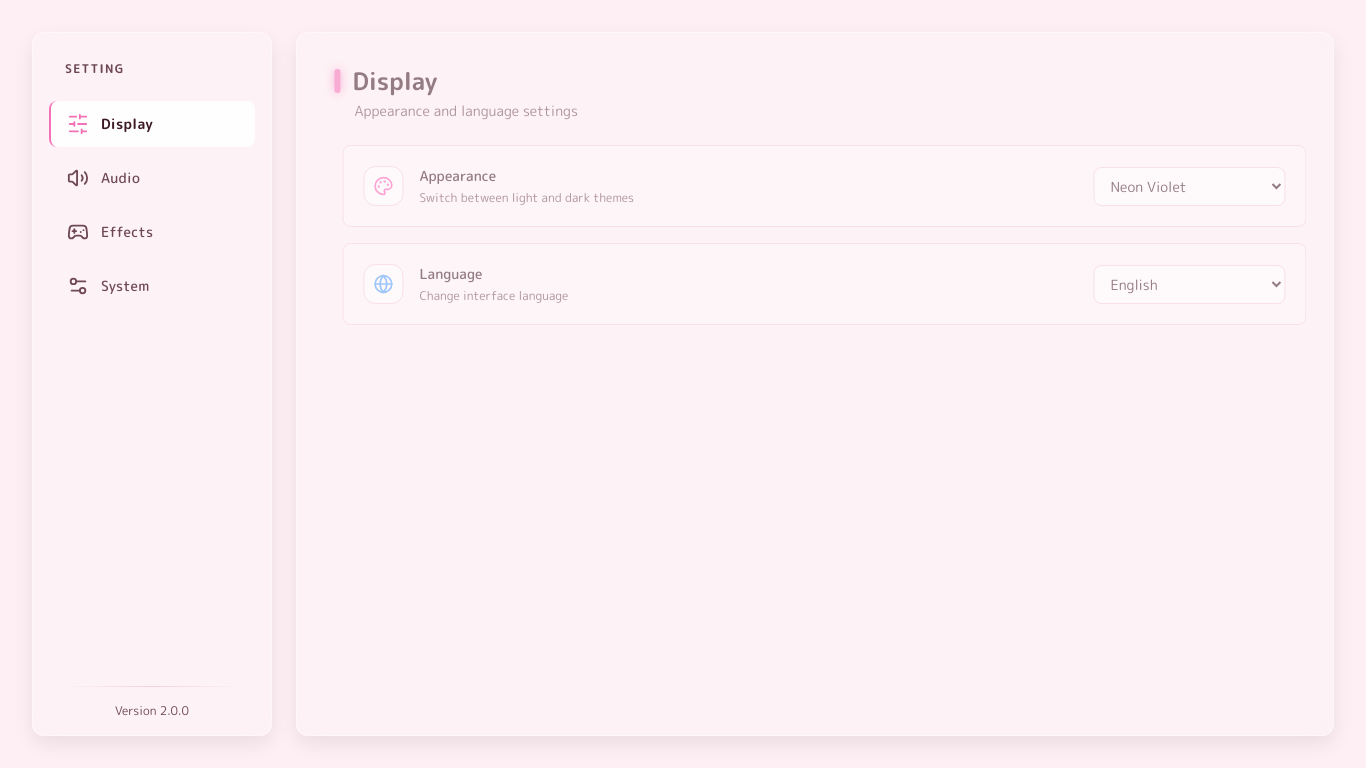
Scenario: SettingsPage › shows volume sliders on Audio tab
Click the button "Audio": (152, 178) [49, 155, 255, 201]
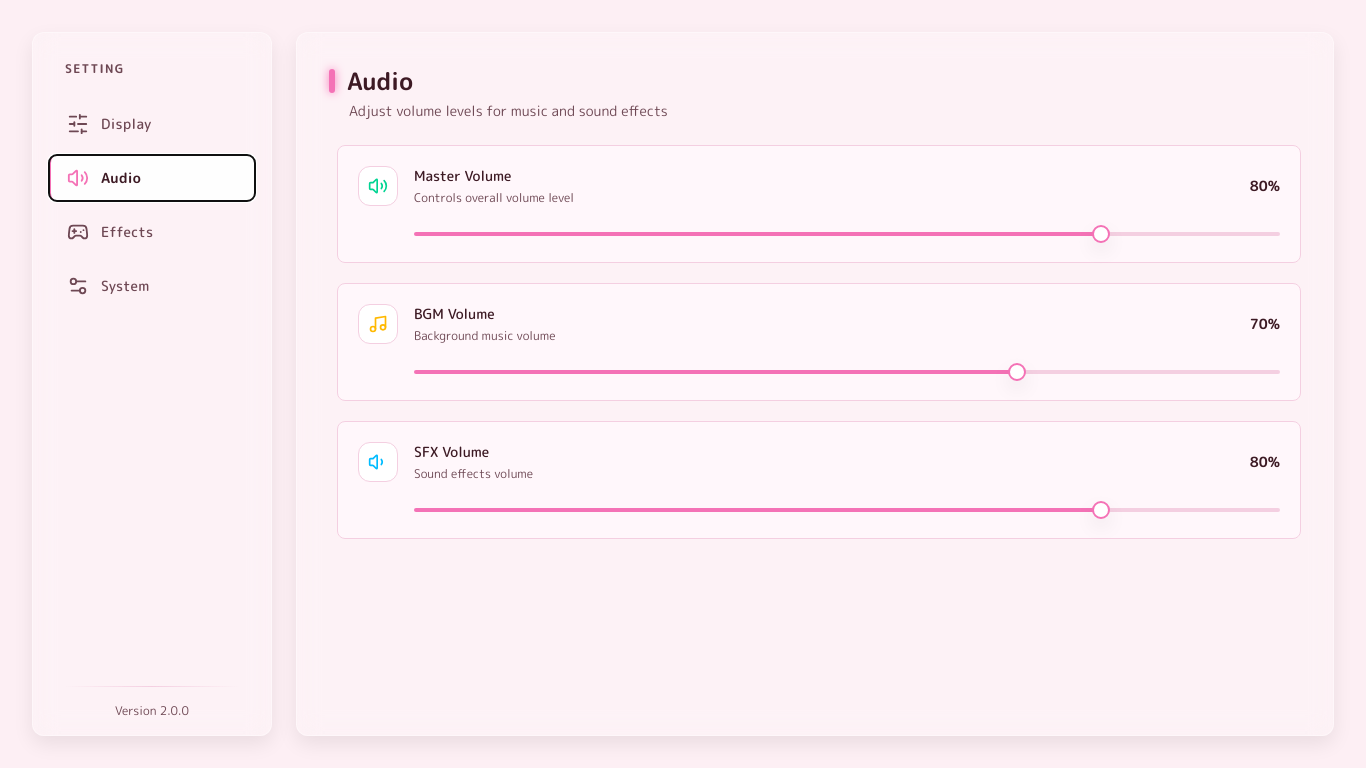
Expected: the heading "Master Volume" is shown, [414, 166, 512, 185]
Expected: the heading "BGM Volume" is shown, [414, 304, 495, 323]
Expected: the heading "SFX Volume" is shown, [414, 442, 489, 461]
